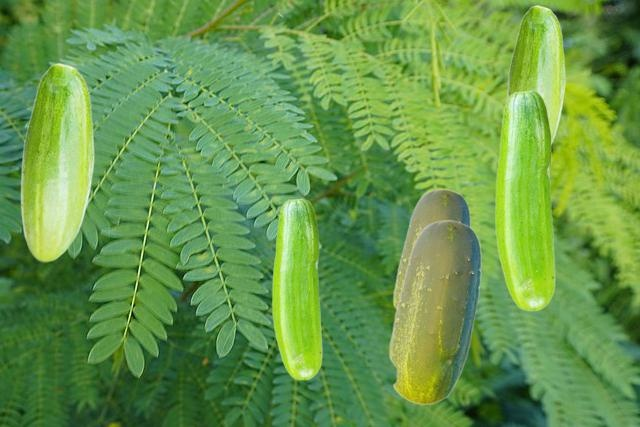cucumber: (388, 219, 480, 404), (20, 63, 93, 261), (495, 90, 554, 310), (392, 188, 469, 309), (272, 198, 321, 379), (506, 5, 564, 143)
